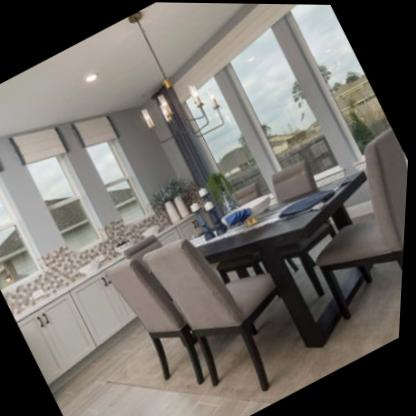Dining Table: (99, 109, 412, 416)
